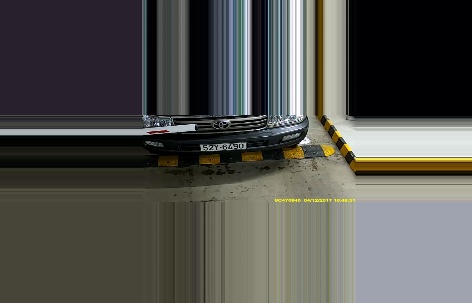plate: (199, 141, 247, 153)
